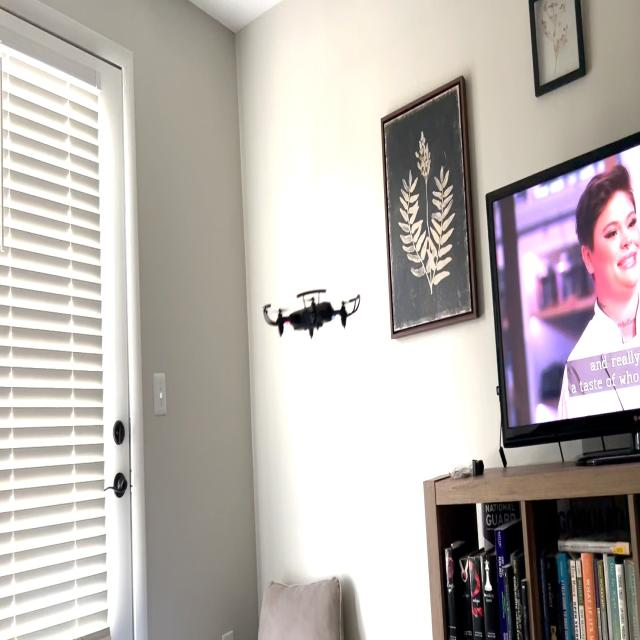drone: (252, 270, 372, 352)
